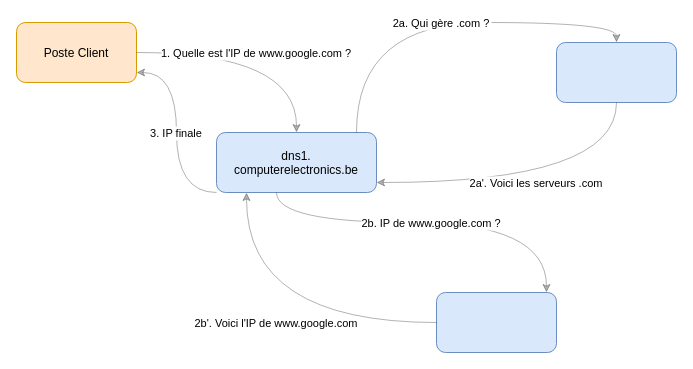
The diagram is 693 pixels wide and 369 high, and some of its shapes have lost their labels. The centre of each missing label's shape, as x and y in pixels:
"Serveur DNS .com" goes at [496,322].
"Serveur DNS Racine" goes at [616,72].
